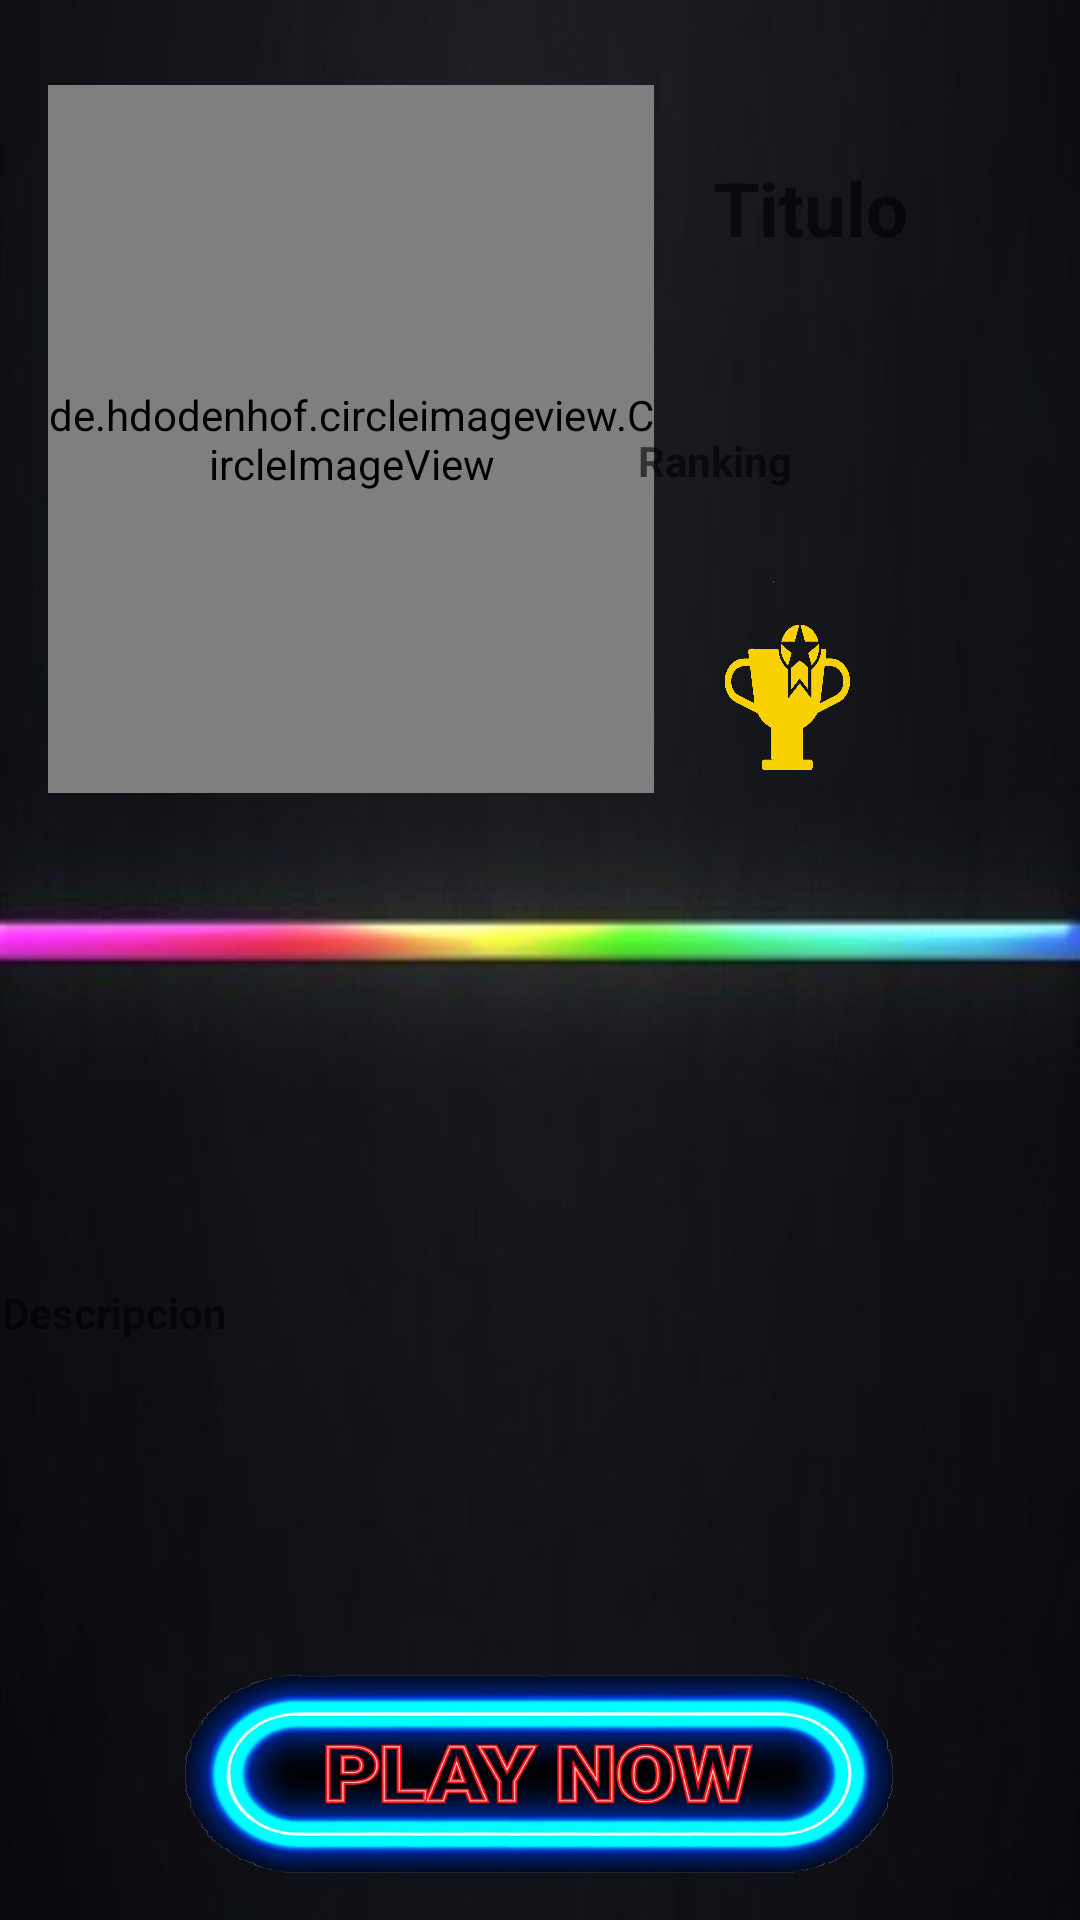

Screen size 1080w x 1920h. Icon name, then its box in pixels as (x1, y1, x2, y2):
copaa: (725, 581, 850, 770)
